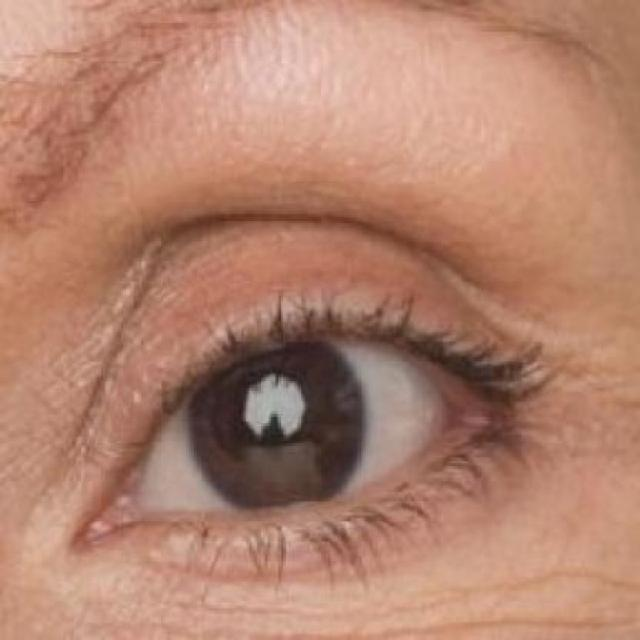awake: (82, 222, 480, 547)
